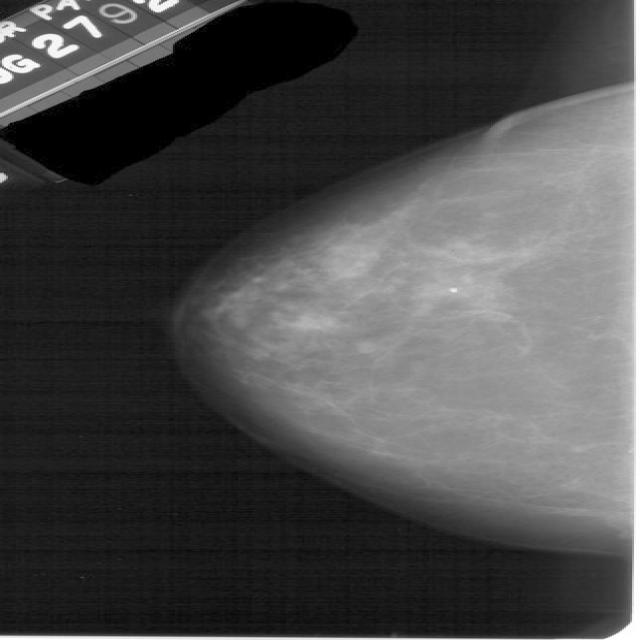tumour: (330, 242, 372, 274)
